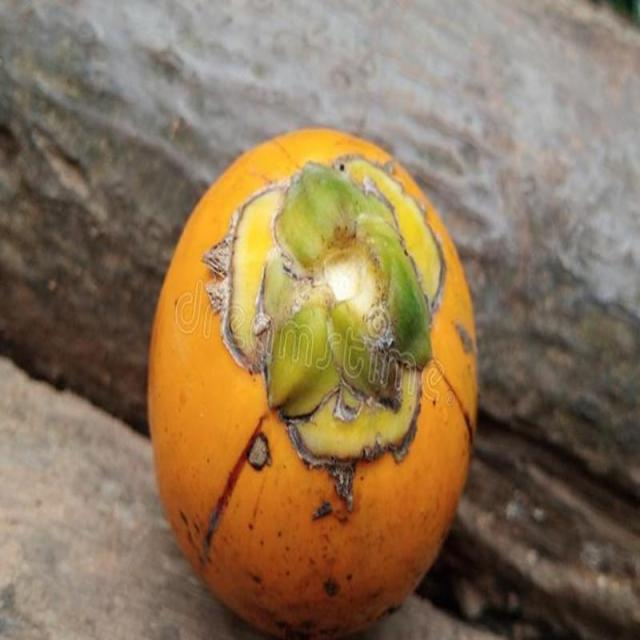good: (146, 129, 479, 639)
